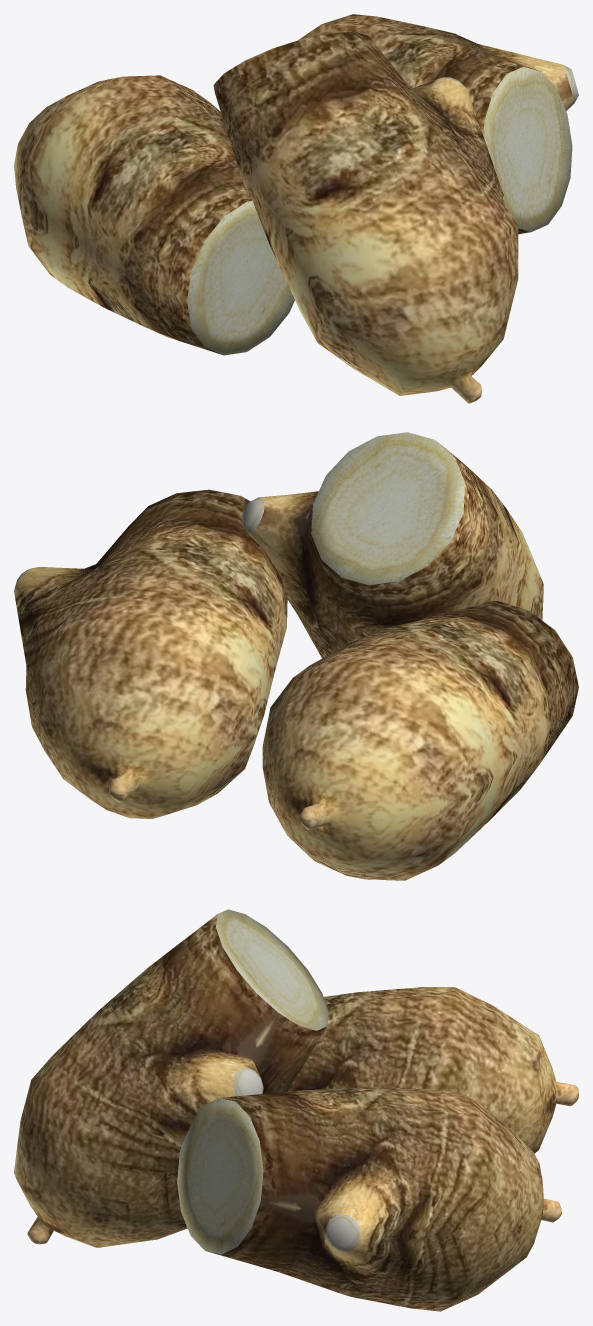
Rendered from xiyangshen.FBX.
3 renders of one model, top to bottom at view 1: azimuth 30°, elevation 25°; view 2: azimuth 150°, elevation 25°; view 3: azimuth 270°, elevation 25°, orthographic. The views are drawn at different scales.
Visible parts, largest first — view 1: Cylinder003, Cylinder001, Cylinder002; view 2: Cylinder002, Cylinder001, Cylinder003; view 3: Cylinder002, Cylinder003, Cylinder001.
Part boxes in pixels (x1,y1,x2,y2): Cylinder003: (213, 31, 518, 403); Cylinder001: (14, 75, 294, 355); Cylinder002: (298, 14, 578, 234); Cylinder002: (14, 489, 287, 818); Cylinder001: (262, 601, 578, 880); Cylinder003: (241, 432, 543, 658); Cylinder002: (177, 1087, 561, 1311); Cylinder003: (14, 909, 328, 1247); Cylinder001: (288, 987, 578, 1153).
Size of the model in its own units: 81.2 by 50.83 by 83.8.
Materials: 1 (1 with a texture image).
